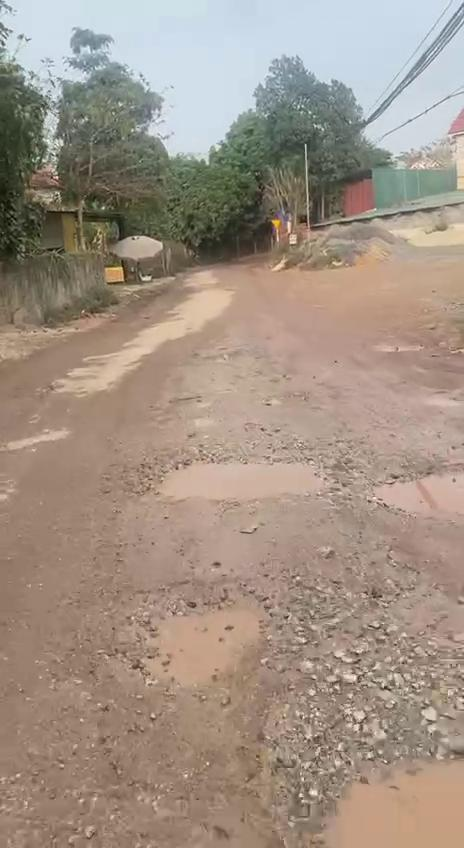pothole: (280, 732, 464, 848), (113, 572, 286, 688), (144, 451, 341, 508), (367, 457, 464, 534)
